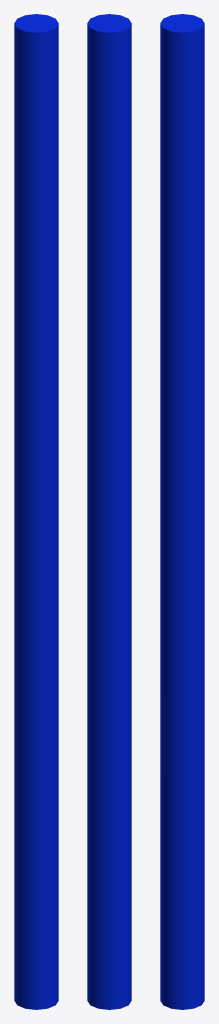
File: pipe.fbx
The picture shows the model from 3 angles, left to right: view 1: azimuth 90°, elevation 25°; view 2: azimuth 150°, elevation 25°; view 3: azimuth 270°, elevation 25°; orthographic projection.
Parts seen in each view (by area): view 1: pipe.001; view 2: pipe.001; view 3: pipe.001.
Boxes of the visible parts, <box> form: pipe.001: <box>14,14,58,1009</box>; pipe.001: <box>87,14,131,1009</box>; pipe.001: <box>160,14,204,1009</box>.
Bounding box in the file's own units: 11.61 × 281 × 11.61.
